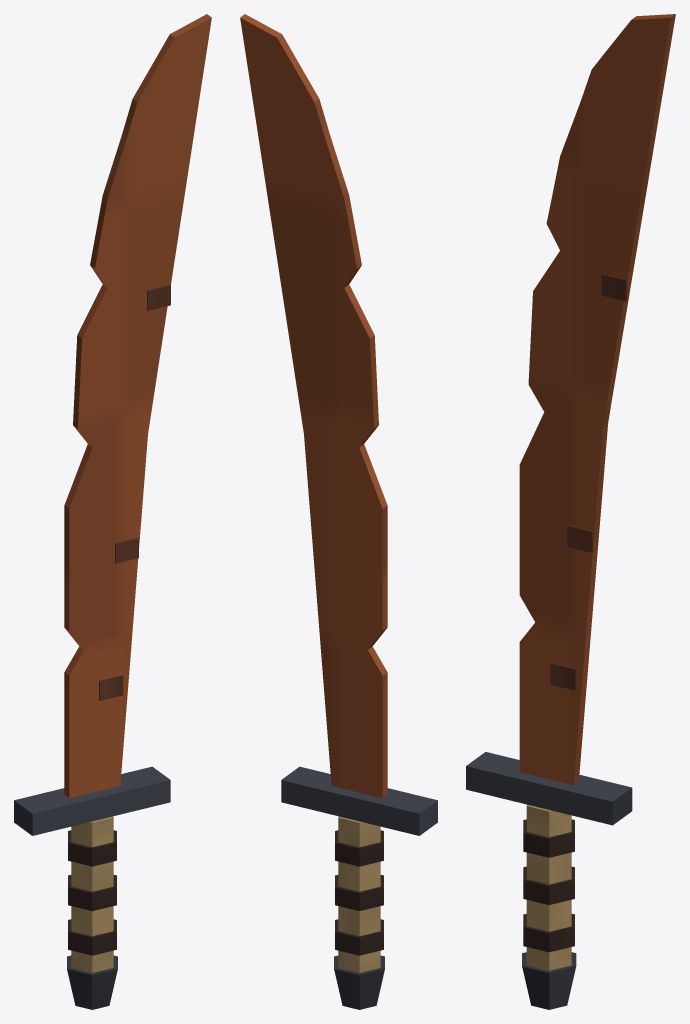
The model's file is SM_Prop_ScrapCutlass_HQ.glb.
The picture shows the model from 3 angles, left to right: view 1: azimuth 30°, elevation 25°; view 2: azimuth 150°, elevation 25°; view 3: azimuth 330°, elevation 25°; orthographic projection. The views are drawn at different scales.
Parts seen in each view (by area): view 1: SM_Prop_ScrapCutlass_HQ; view 2: SM_Prop_ScrapCutlass_HQ; view 3: SM_Prop_ScrapCutlass_HQ.
Part boxes in pixels (x1,y1,x2,y2): SM_Prop_ScrapCutlass_HQ: (14, 14, 211, 1009); SM_Prop_ScrapCutlass_HQ: (240, 14, 437, 1009); SM_Prop_ScrapCutlass_HQ: (466, 14, 675, 1009).
Size of the model in its own units: 0.175 by 0.86 by 0.0416.
1 material, 1 textured.
